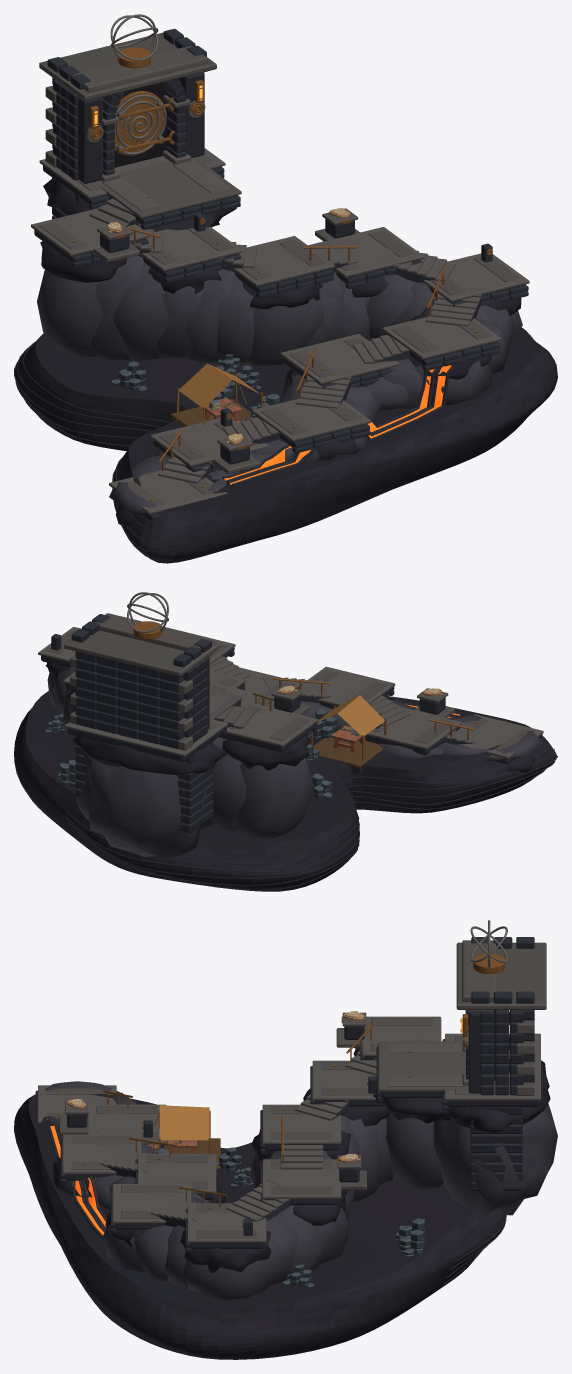
The model's file is vulkara.glb.
The picture shows the model from 3 angles, top to bottom: view 1: azimuth 30°, elevation 25°; view 2: azimuth 150°, elevation 25°; view 3: azimuth 270°, elevation 25°; orthographic projection. The views are drawn at different scales.
Visible parts, largest first — view 1: static_mineral, static_metal, static_organic, static_luminous; view 2: static_mineral, static_organic, static_metal; view 3: static_mineral, static_organic, static_metal, static_luminous.
Boxes of the visible parts, bbox=[...] form: static_mineral: bbox=[14, 28, 557, 563]; static_metal: bbox=[72, 14, 506, 500]; static_organic: bbox=[170, 363, 266, 428]; static_luminous: bbox=[94, 85, 451, 484]; static_mineral: bbox=[14, 613, 557, 891]; static_organic: bbox=[310, 695, 391, 768]; static_metal: bbox=[61, 592, 523, 741]; static_mineral: bbox=[14, 937, 557, 1359]; static_organic: bbox=[154, 1105, 220, 1169]; static_metal: bbox=[58, 920, 507, 1233]; static_luminous: bbox=[50, 1018, 462, 1234].
Size of the model in its own units: 22.47 by 14.1 by 21.79.
